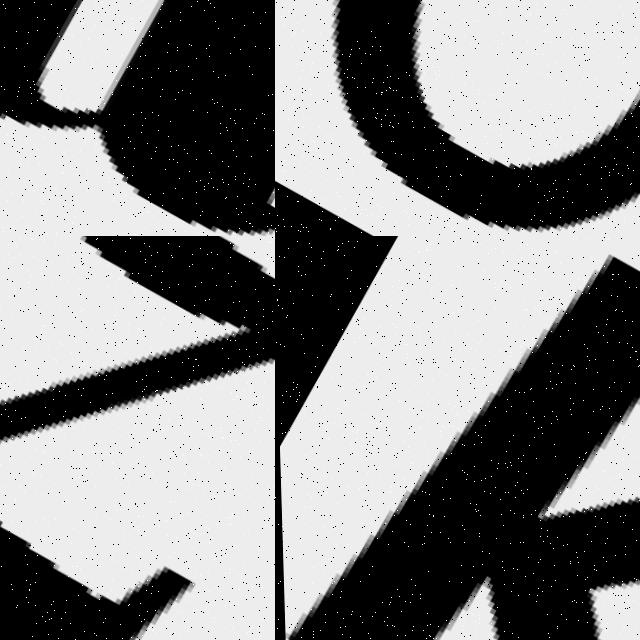0: (275, 0, 640, 236)
A: (0, 0, 275, 236)
K: (275, 236, 640, 640)
Z: (0, 236, 275, 640)
